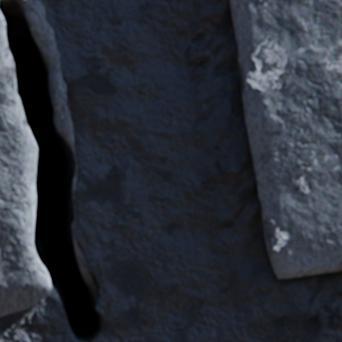brick: (229, 0, 341, 278), (0, 10, 58, 315), (0, 0, 78, 191), (72, 193, 77, 235), (74, 238, 84, 258), (80, 261, 89, 271)
crack: (0, 1, 100, 340)
